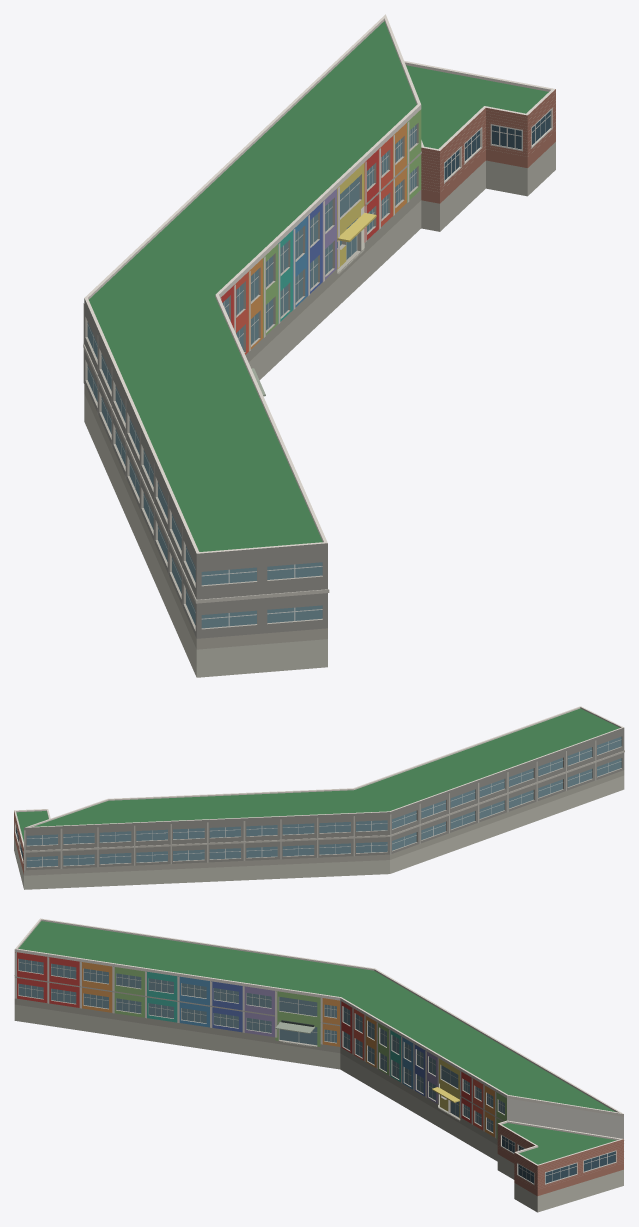
3 views of the same model, one above another, from view 1: azimuth 30°, elevation 25°; view 2: azimuth 150°, elevation 25°; view 3: azimuth 270°, elevation 25° (orthographic). The views are drawn at different scales.
Visible parts, largest first — view 1: wing1__roof, main__foundation, wing1__brick, wing1__glass, wing1__parapet-concrete, wing1__trim-concrete, wing1-brick__brick, wing1__base-stone, wing1__frame, wing1__colour-2, wing1__colour-3, wing1-brick__glass (+3 smaller); view 2: wing1__roof, wing1__brick, wing1__glass, main__foundation, wing1__trim-concrete, wing1__base-stone, wing1__parapet-concrete, wing1__frame; view 3: wing1__roof, main__foundation, wing1__glass, wing1__parapet-concrete, wing1__base-stone, wing1-brick__brick, wing1__wall-plaster, wing1__trim-concrete, wing1__colour-0, wing1__colour-3, wing1__colour-2, wing1__frame (+8 smaller).
Part boxes in pixels (x1=…): wing1__roof: x1=89, y1=21, x2=548, y2=551; main__foundation: x1=84, y1=142, x2=555, y2=677; wing1__brick: x1=84, y1=298, x2=327, y2=638; wing1__glass: x1=87, y1=124, x2=416, y2=628; wing1__parapet-concrete: x1=84, y1=14, x2=555, y2=553; wing1__trim-concrete: x1=83, y1=123, x2=421, y2=630; wing1-brick__brick: x1=421, y1=89, x2=555, y2=203; wing1__base-stone: x1=84, y1=190, x2=421, y2=649; wing1__frame: x1=87, y1=126, x2=416, y2=626; wing1__colour-2: x1=248, y1=123, x2=406, y2=351; wing1__colour-3: x1=263, y1=109, x2=421, y2=337; wing1-brick__glass: x1=444, y1=111, x2=550, y2=180; wing1__roof: x1=16, y1=708, x2=619, y2=841; wing1__brick: x1=24, y1=727, x2=624, y2=870; wing1__glass: x1=26, y1=736, x2=621, y2=867; main__foundation: x1=14, y1=775, x2=624, y2=889; wing1__trim-concrete: x1=23, y1=736, x2=624, y2=870; wing1__base-stone: x1=24, y1=770, x2=624, y2=875; wing1__parapet-concrete: x1=14, y1=706, x2=623, y2=847; wing1__frame: x1=27, y1=739, x2=621, y2=866; wing1__roof: x1=18, y1=921, x2=615, y2=1164; main__foundation: x1=14, y1=1004, x2=623, y2=1212; wing1__glass: x1=19, y1=959, x2=504, y2=1132; wing1__parapet-concrete: x1=14, y1=918, x2=623, y2=1165; wing1__base-stone: x1=14, y1=998, x2=497, y2=1144; wing1-brick__brick: x1=497, y1=1124, x2=623, y2=1196; wing1__wall-plaster: x1=507, y1=1098, x2=623, y2=1138; wing1__trim-concrete: x1=14, y1=958, x2=624, y2=1140; wing1__colour-0: x1=15, y1=952, x2=471, y2=1123; wing1__colour-3: x1=113, y1=966, x2=506, y2=1138; wing1__colour-2: x1=80, y1=961, x2=494, y2=1137; wing1__frame: x1=18, y1=960, x2=504, y2=1130.
Bounding box in the file's own units: 69.06 × 10.35 × 80.
